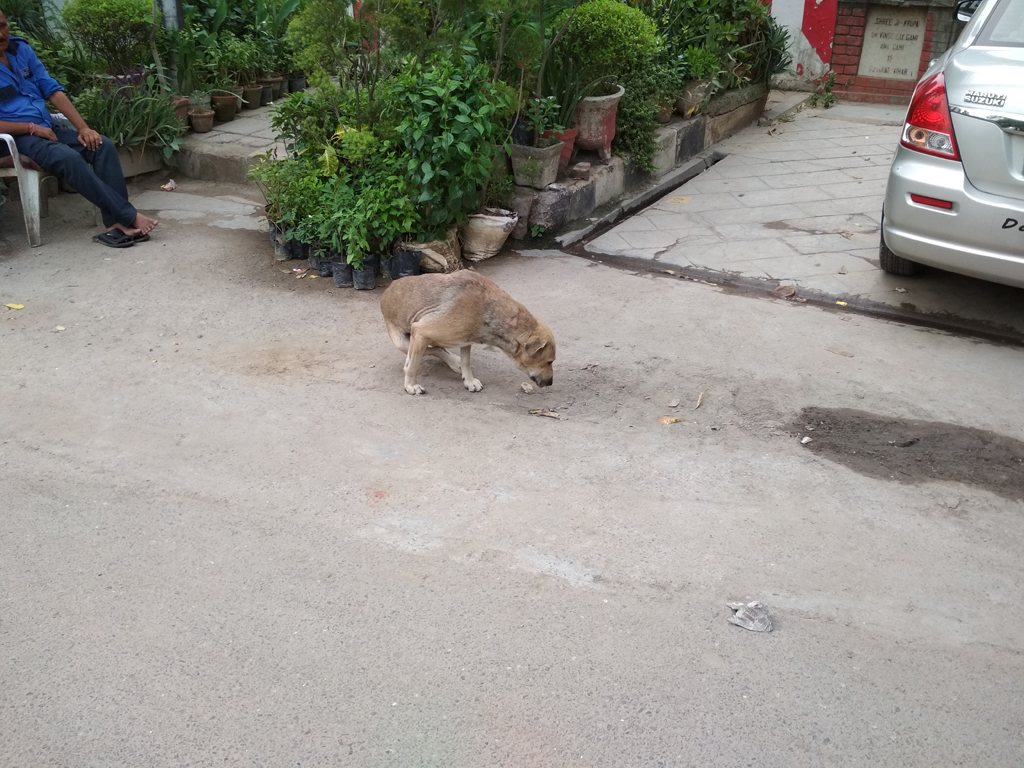dog: (379, 269, 557, 396)
